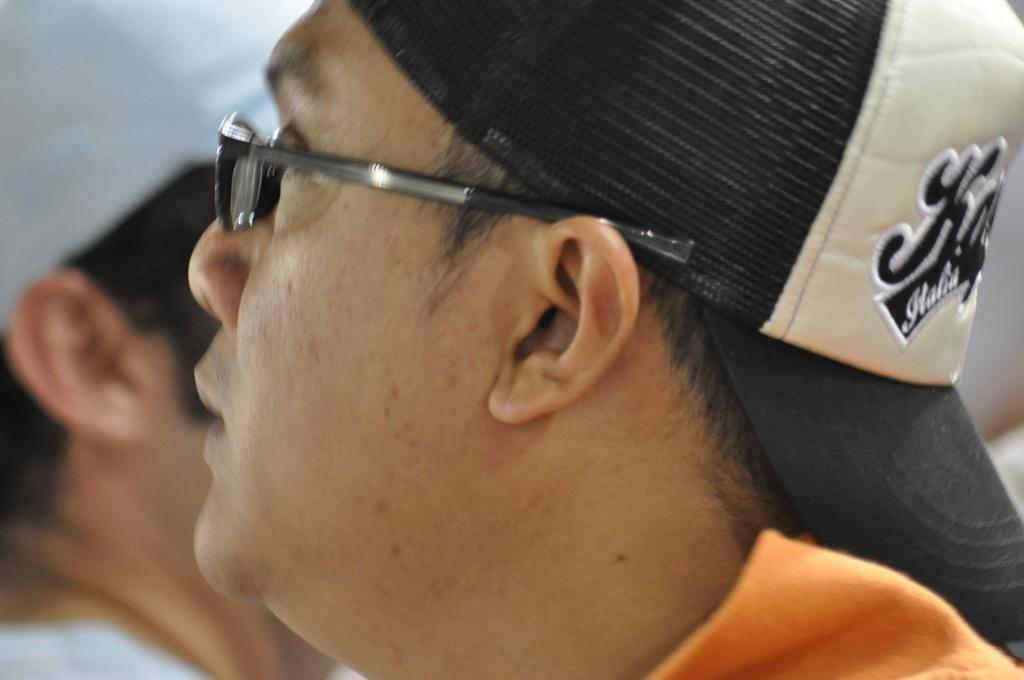Hat: (342, 0, 1023, 645)
